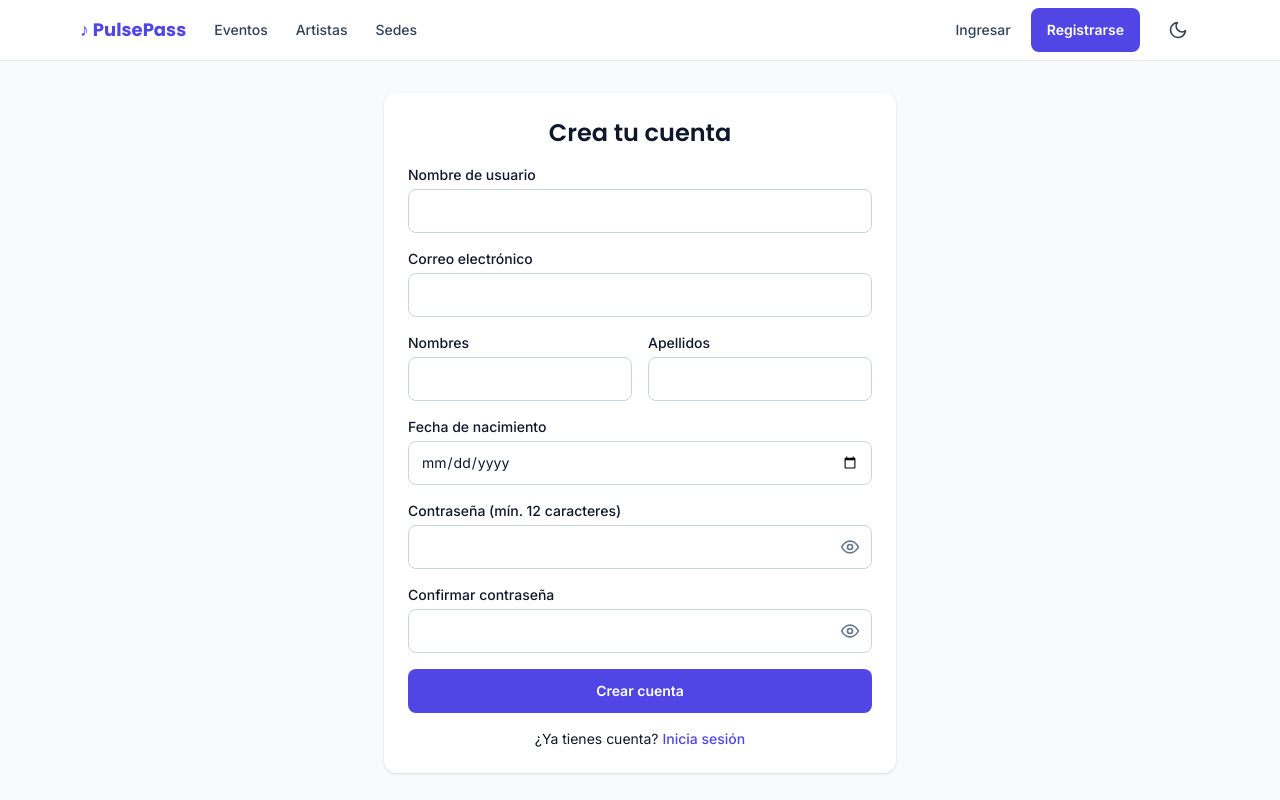
Autenticación › registro con contraseñas distintas → error y 0 peticiones
This screenshot has width=1280, height=800.
expect the heading "Crea tu cuenta" is shown: met, box [549,116,731,149]
Type "nuevo.usuario" into the field labelled "Nombre de usuario" at (640, 211), box [408,189,872,233]
Type "nuevo@pulsepass.test" into the field labelled "Correo electrónico" at (640, 295), box [408,273,872,317]
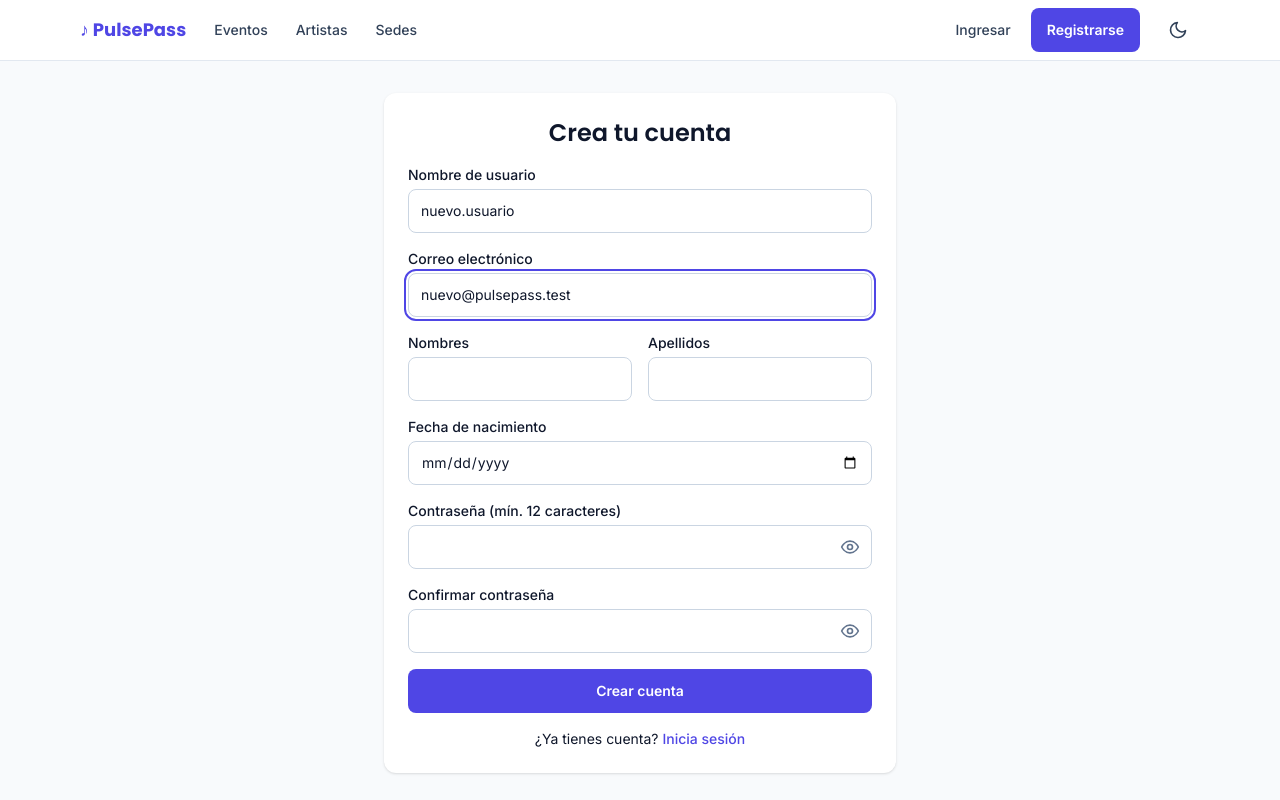
Type "Nuevo" into the field labelled "Nombres" at (520, 379), box [408,357,632,401]
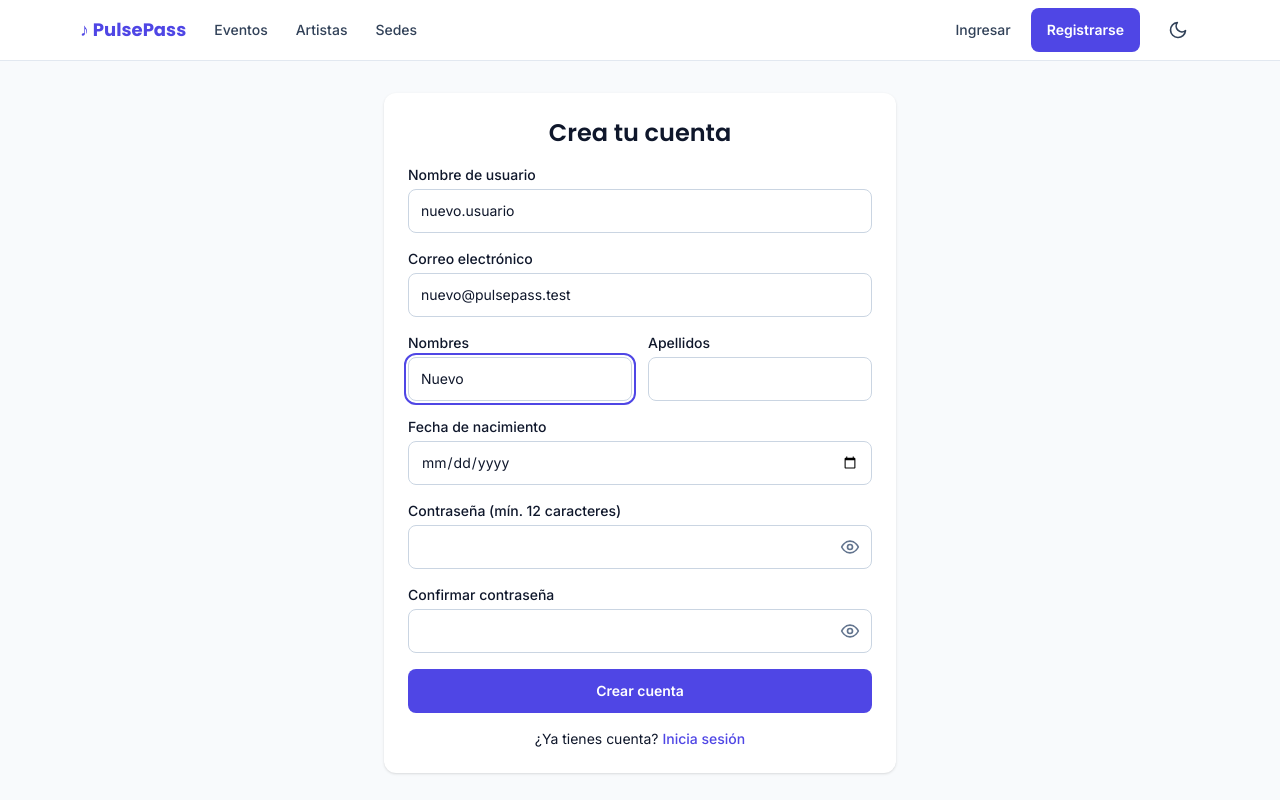
Type "Usuario" into the field labelled "Apellidos" at (760, 379), box [648,357,872,401]
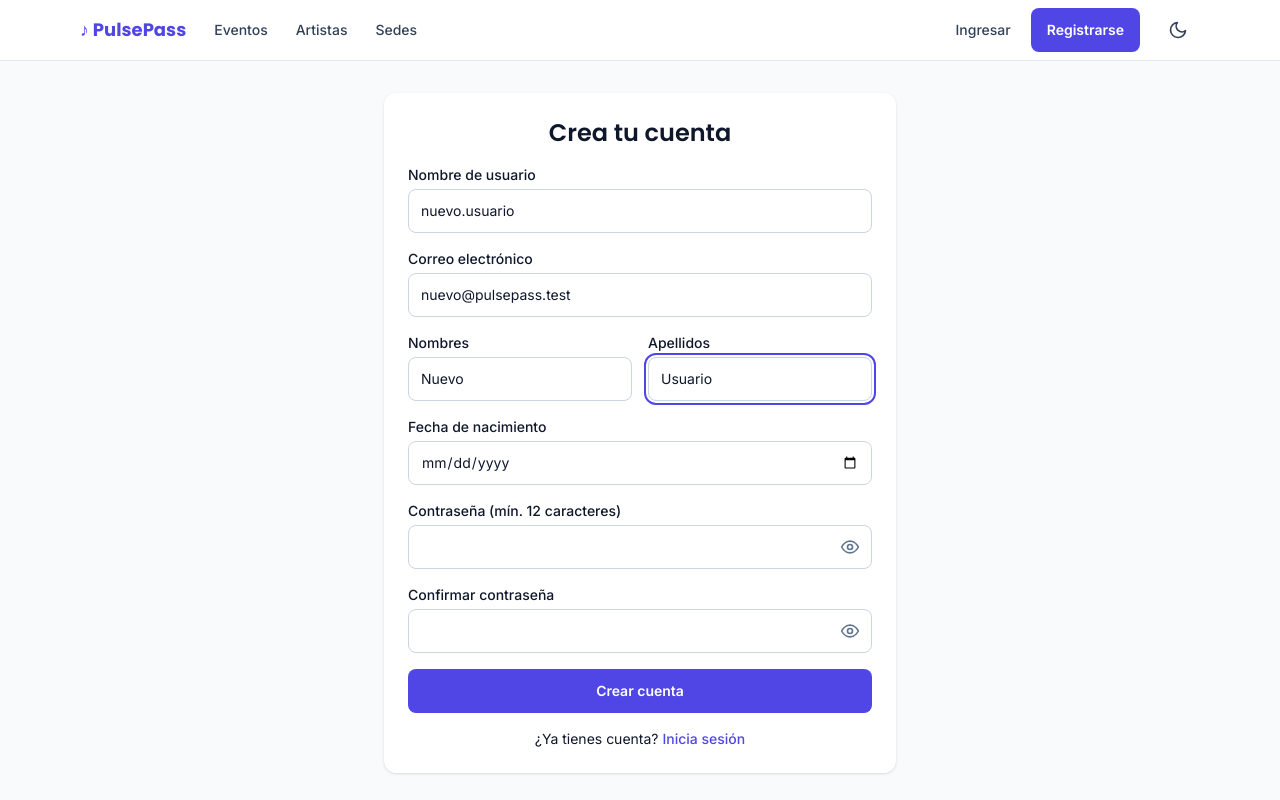
Type "1998-04-12" into the date field labelled "Fecha de nacimiento" at (640, 463), box [408,441,872,485]
Type "contraseña-segura-123" into the password field labelled "Contraseña (mín. 12 caracteres)" at (640, 547), box [408,525,872,569]
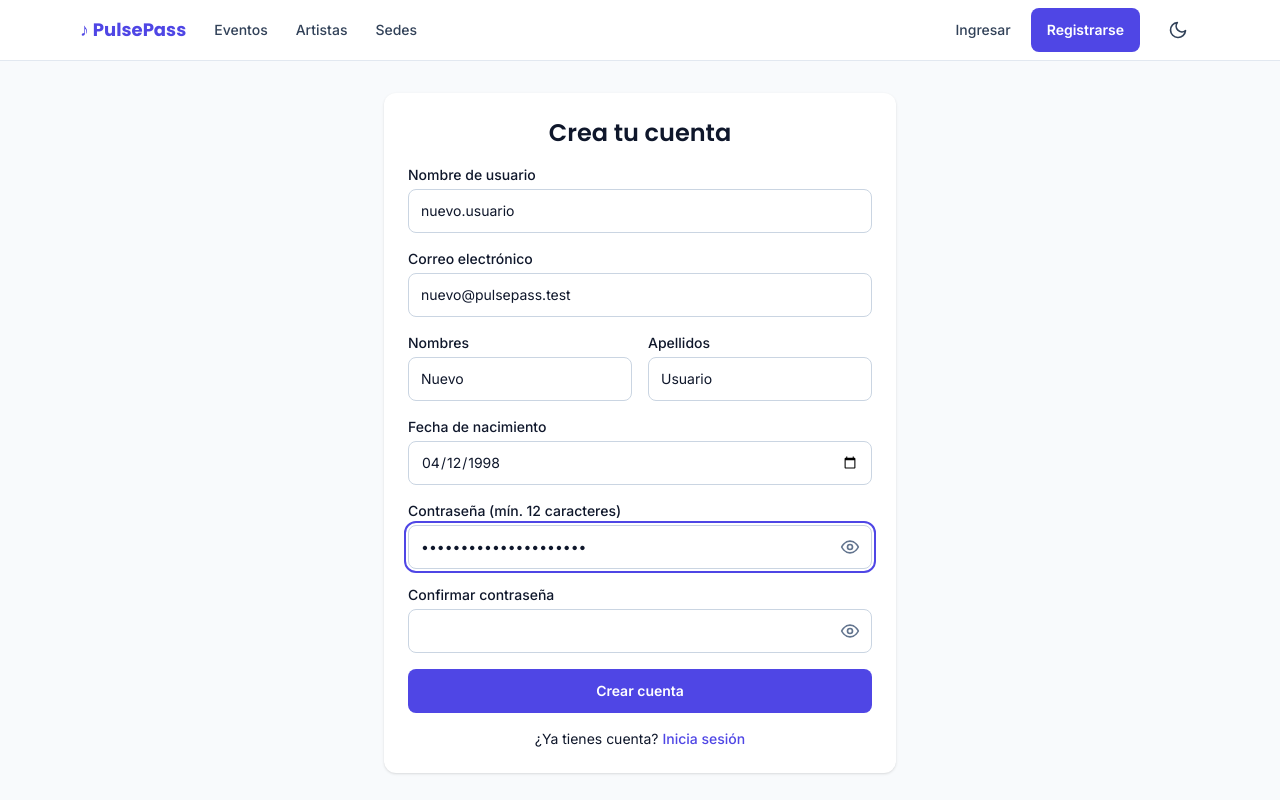
Type "otra-contraseña-123" into the password field labelled "Confirmar contraseña" at (640, 631), box [408,609,872,653]
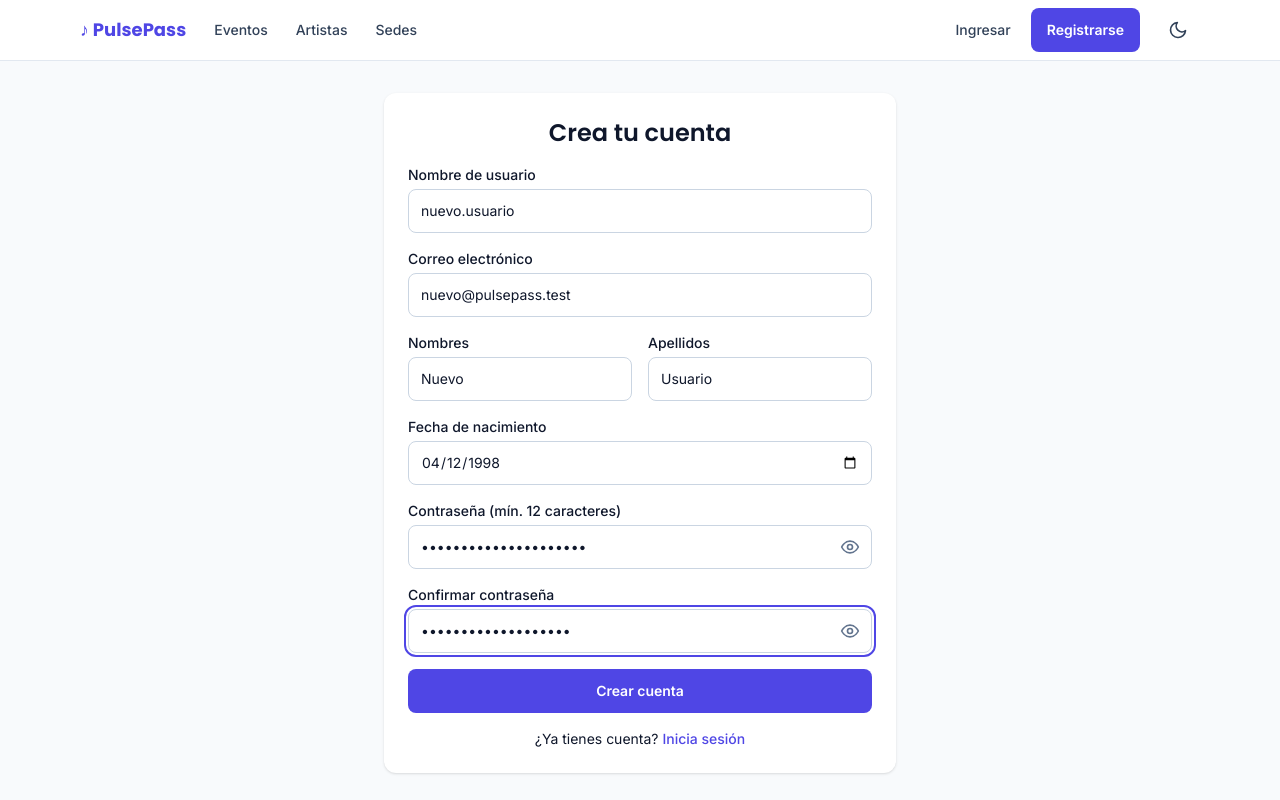
Click the button "Crear cuenta" at (640, 691), box [408,669,872,713]
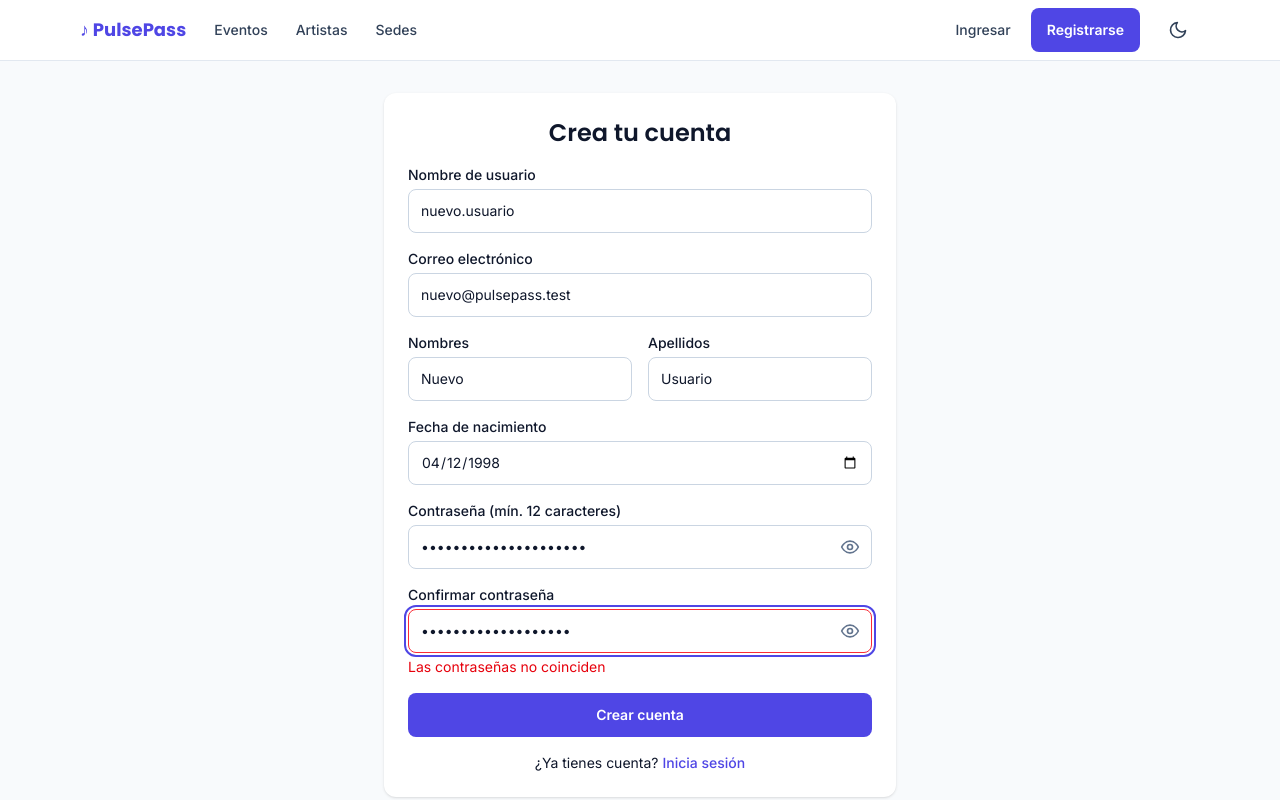
expect the text "Las contraseñas no coinciden" is shown: met, box [408,658,606,675]
